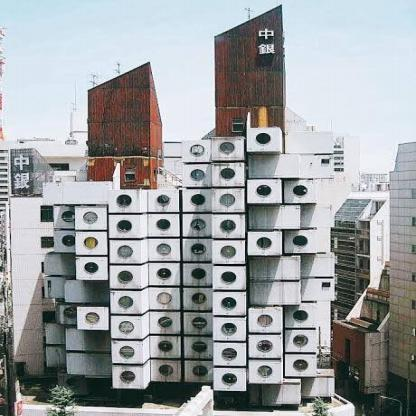Building Outline: (10, 3, 355, 416)
Deco: (14, 155, 31, 189), (258, 29, 275, 55)
Facade: (0, 3, 355, 415)
Window: (41, 206, 54, 222), (43, 312, 57, 323), (41, 237, 54, 248), (42, 262, 55, 273), (43, 287, 56, 298), (233, 118, 243, 132), (126, 168, 136, 181), (321, 159, 329, 164), (323, 283, 330, 287)
